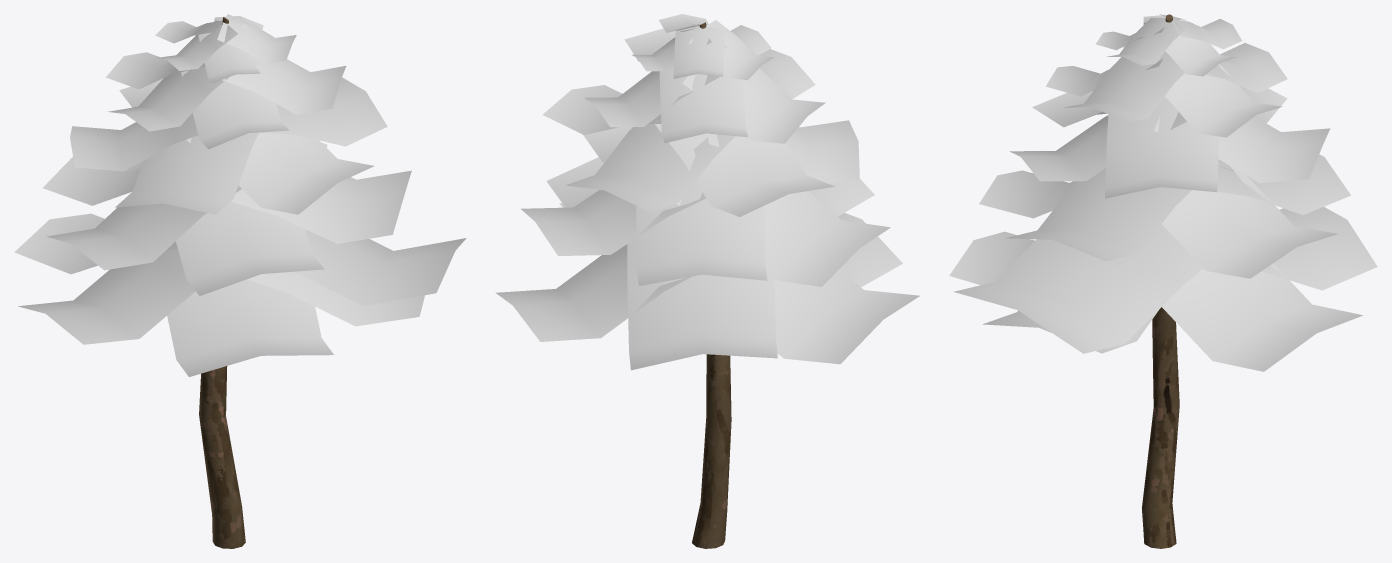
The model's file is Pine_4.glb.
The picture shows the model from 3 angles, left to right: view 1: azimuth 30°, elevation 25°; view 2: azimuth 150°, elevation 25°; view 3: azimuth 270°, elevation 25°; orthographic projection.
Parts seen in each view (by area): view 1: Pine_4; view 2: Pine_4; view 3: Pine_4.
Part boxes in pixels (x1,y1,x2,y2): Pine_4: (14,14,466,548); Pine_4: (495,14,919,548); Pine_4: (949,14,1377,548).
Size of the model in its own units: 4.31 by 5.67 by 4.18.
2 materials, 1 textured.
